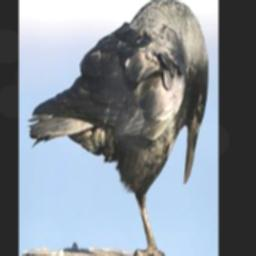Crow: (27, 0, 209, 256)
